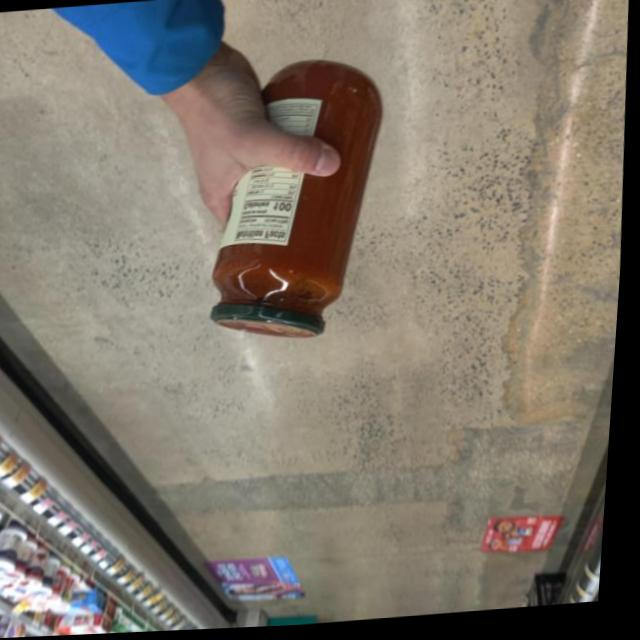Sauce: (179, 48, 423, 353)
